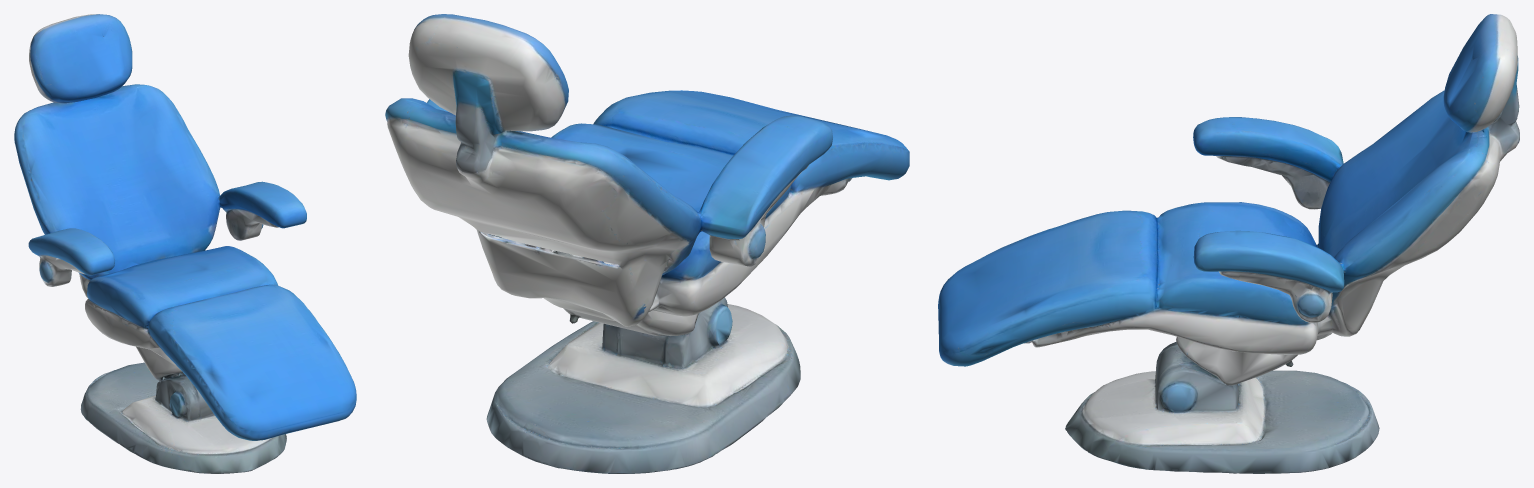
File: chair.glb
The picture shows the model from 3 angles, left to right: view 1: azimuth 30°, elevation 25°; view 2: azimuth 150°, elevation 25°; view 3: azimuth 270°, elevation 25°; orthographic projection. The views are drawn at different scales.
Bounding box in the file's own units: 1.1 × 1.52 × 2.
1 material, 1 textured.
